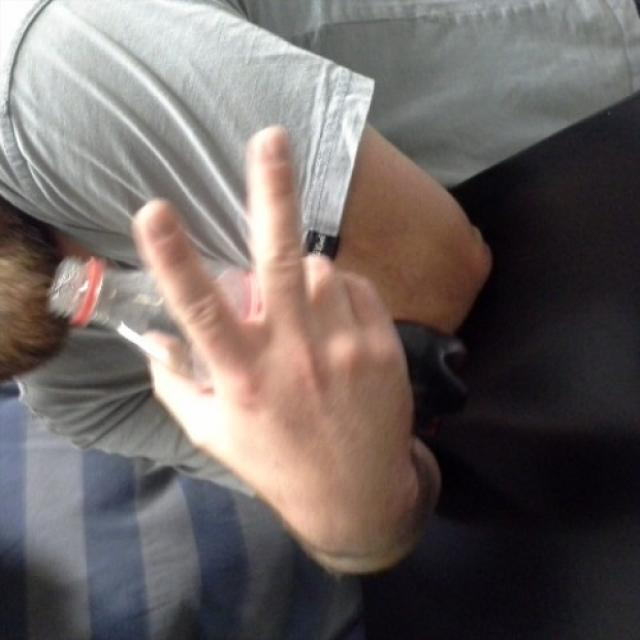scissors: (126, 117, 420, 505)
